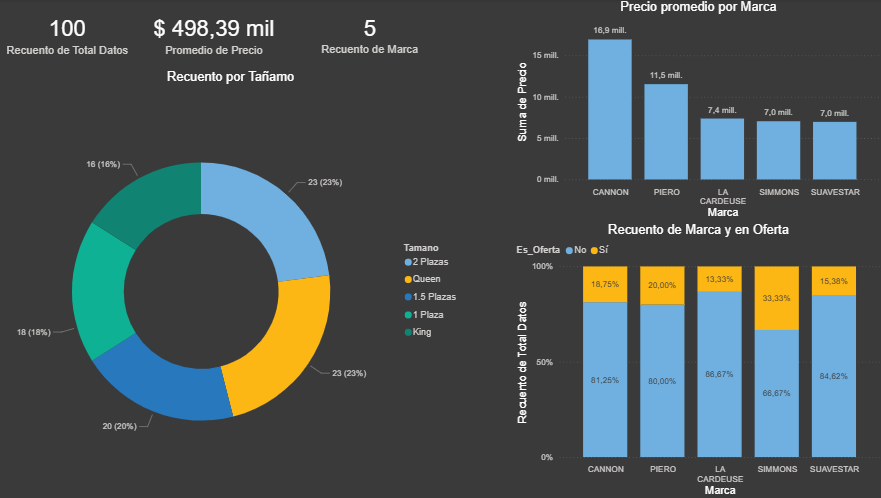

Layout of this report page (visuals, bound fields, positions):
{"tool":"powerbi","page":{"name":"Página 1","canvas":[1280,720],"ordinal":0},"visuals":[{"type":"card","fields":{"Values":["CountNonNull(vw_Colchones_Limpios.Titulo_Original)"]},"box":[0,0,208.3,100.8],"z":0},{"type":"card","fields":{"Values":["Avg(vw_Colchones_Limpios.Precio)"]},"box":[210,0,210,100.8],"z":1000},{"type":"clusteredColumnChart","title":"Precio promedio por Marca","fields":{"Category":["vw_Colchones_Limpios.Marca_Normalizada"],"Y":["Sum(vw_Colchones_Limpios.Precio)"]},"box":[745.8,0,534.2,320.8],"z":2000},{"type":"donutChart","title":"Recuento por Tañamo","fields":{"Category":["vw_Colchones_Limpios.Tamano"],"Y":["CountNonNull(vw_Colchones_Limpios.Titulo_Original)"]},"box":[0,100.8,678.6,619.8],"z":3000},{"type":"hundredPercentStackedColumnChart","title":"Recuento de Marca y en Oferta","fields":{"Category":["vw_Colchones_Limpios.Marca_Normalizada"],"Y":["CountNonNull(vw_Colchones_Limpios.Titulo_Original)"],"Series":["vw_Colchones_Limpios.Es_Oferta"]},"box":[745.8,320.8,534.2,399.8],"z":4000},{"type":"card","fields":{"Values":["Count(vw_Colchones_Limpios.Marca)"]},"box":[419.9,0,238.5,99.1],"z":5000}]}

Visuals, with their boxes in screenshot pixels (x1, y1, x2, y2), scaled from the page's 1280x720 canvas onto the 881x498 screenshot:
card - CountNonNull(vw_Colchones_Limpios.Titulo_Original): bbox=[0, 0, 143, 70]
card - Avg(vw_Colchones_Limpios.Precio): bbox=[145, 0, 289, 70]
"Precio promedio por Marca" clusteredColumnChart: bbox=[513, 0, 880, 222]
"Recuento por Tañamo" donutChart: bbox=[0, 70, 467, 497]
"Recuento de Marca y en Oferta" hundredPercentStackedColumnChart: bbox=[513, 222, 880, 497]
card - Count(vw_Colchones_Limpios.Marca): bbox=[289, 0, 453, 69]
